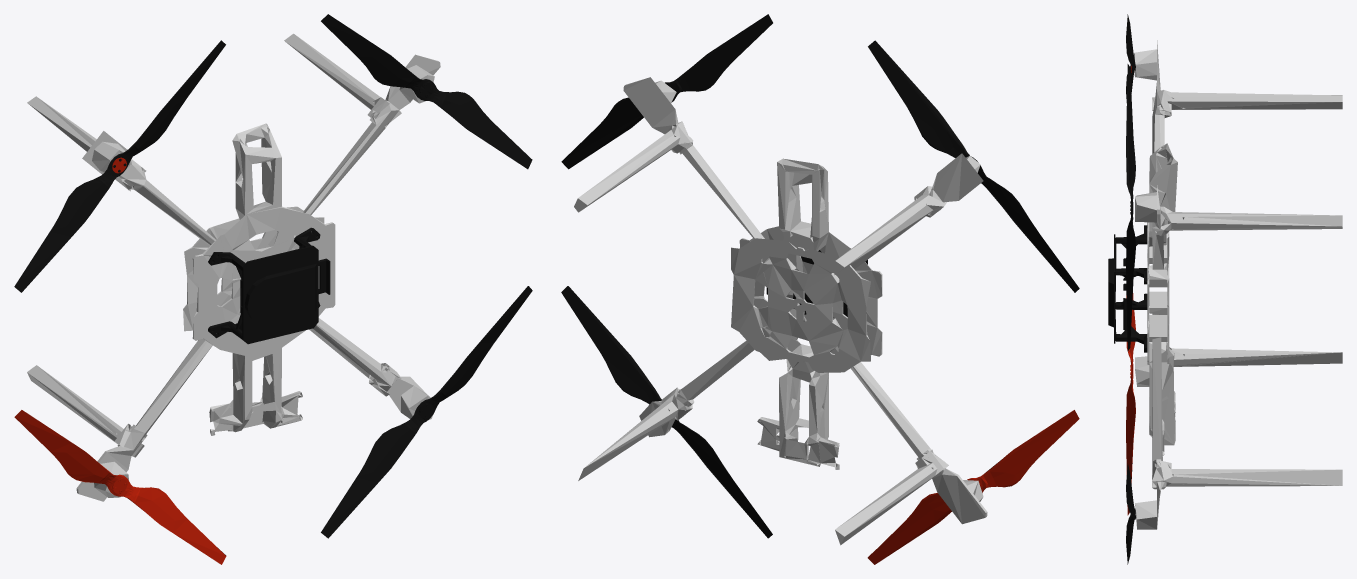
The model's file is tarot_simplificado_v2s.obj.
3 renders of one model, left to right at view 1: azimuth 30°, elevation 25°; view 2: azimuth 150°, elevation 25°; view 3: azimuth 270°, elevation 25°, orthographic. The views are drawn at different scales.
Visible parts, largest first — view 1: Object.1, Object.2, Object.6, Object.3, Object.4, Object.5; view 2: Object.1, Object.3, Object.6, Object.4, Object.5; view 3: Object.1, Object.2, Object.5, Object.4, Object.6, Object.3.
Boxes of the visible parts, x1,y1,x2,y2 form: Object.1: (27, 33, 440, 501); Object.2: (208, 227, 330, 344); Object.6: (321, 286, 532, 538); Object.3: (14, 40, 225, 292); Object.4: (14, 410, 226, 564); Object.5: (321, 14, 532, 169); Object.1: (574, 77, 987, 545); Object.3: (868, 40, 1079, 292); Object.6: (561, 286, 772, 538); Object.4: (867, 410, 1079, 564); Object.5: (561, 14, 772, 169); Object.1: (1133, 40, 1342, 529); Object.2: (1108, 225, 1147, 352); Object.5: (1126, 64, 1135, 351); Object.4: (1126, 293, 1135, 515); Object.6: (1126, 463, 1135, 564); Object.3: (1126, 14, 1135, 102).
Bounding box in the file's own units: 719 × 695 × 294.
